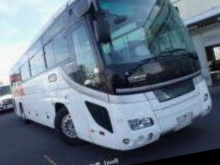bus: (0, 0, 217, 165)
